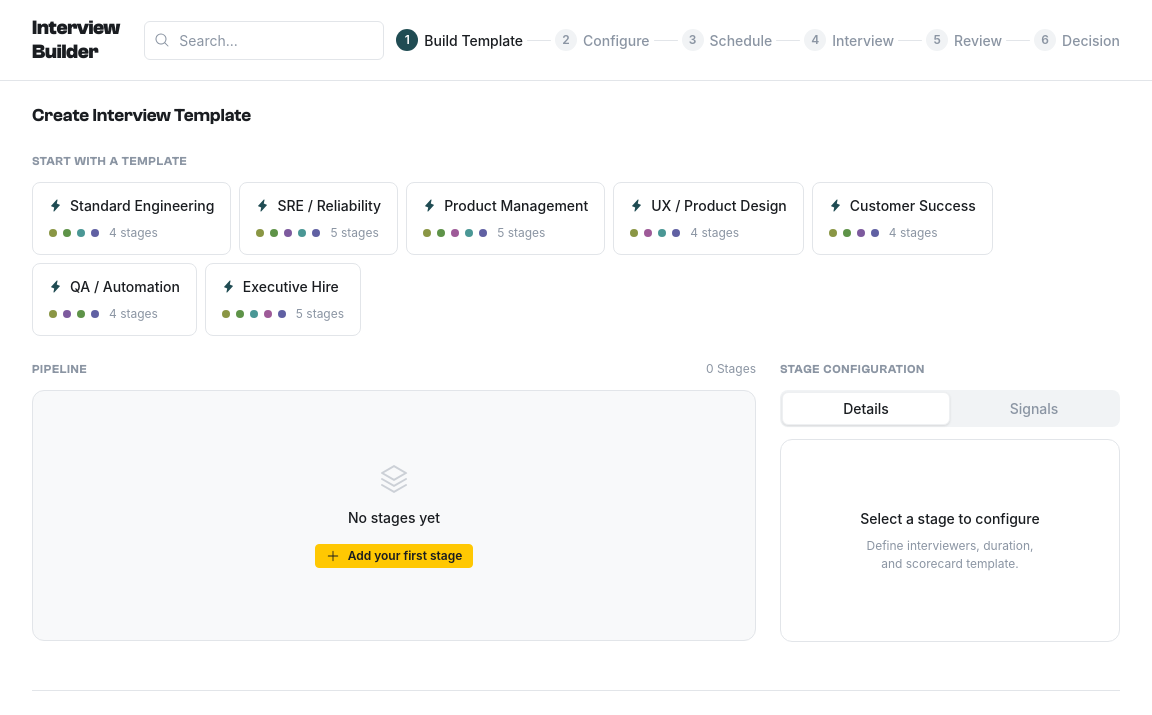
Test: Builder page › switches to Signals tab when clicked
Click the button "Signals" at (1034, 408), box [950,392,1118,424]
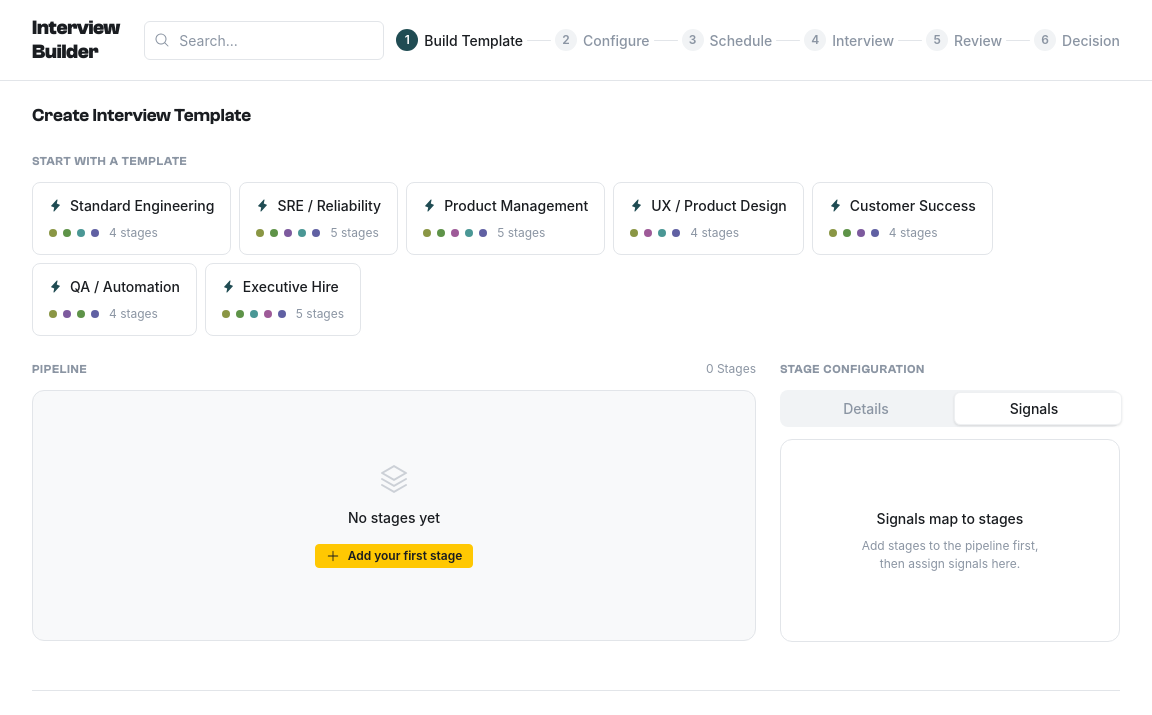
Expected: the text "Signals map to stages" is shown, [877,508,1023,528]
